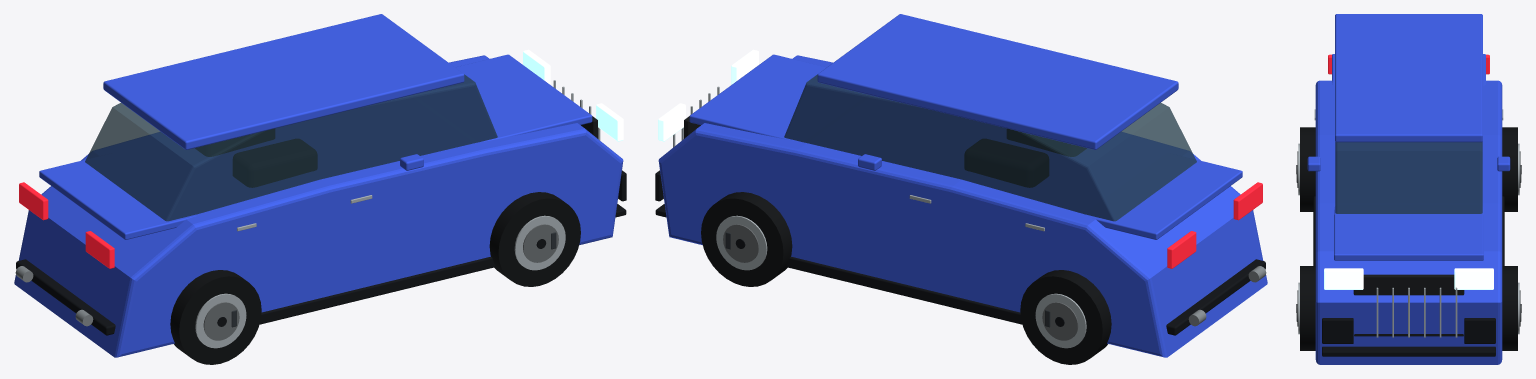
File: chevy_express_cutaway.glb
3 views of the same model, side by side, from view 1: azimuth 30°, elevation 25°; view 2: azimuth 150°, elevation 25°; view 3: azimuth 270°, elevation 25° (orthographic). The views are drawn at different scales.
Visible parts, largest first — view 1: sculpted_body, glasshouse, roof, hood_center, rear_deck, rear_right_wheel_tire, front_right_wheel_tire, side_skirt_1, seat_1, rear_diffuser, rear_right_wheel_rim, front_right_wheel_rim (+7 smaller); view 2: sculpted_body, glasshouse, roof, hood_center, rear_deck, rear_left_wheel_tire, front_left_wheel_tire, side_skirt_-1, seat_-1, rear_diffuser, rear_left_wheel_rim, front_left_wheel_rim (+7 smaller); view 3: sculpted_body, roof, glasshouse, hood_center, front_grille, front_splitter, front_left_wheel_tire, front_right_wheel_tire, rear_left_wheel_tire, rear_right_wheel_tire, headlight_right, headlight_left (+7 smaller).
Part boxes in pixels (box(x1,y1,x2,y2)): sculpted_body: box(14, 55, 623, 357); glasshouse: box(85, 74, 497, 221); roof: box(103, 14, 464, 149); hood_center: box(415, 54, 592, 142); rear_deck: box(39, 153, 198, 239); rear_right_wheel_tire: box(170, 270, 261, 364); front_right_wheel_tire: box(489, 192, 580, 286); side_skirt_1: box(259, 256, 495, 324); seat_1: box(233, 139, 316, 187); rear_diffuser: box(16, 259, 115, 335); rear_right_wheel_rim: box(195, 293, 246, 348); front_right_wheel_rim: box(514, 215, 565, 270); sculpted_body: box(658, 55, 1267, 357); glasshouse: box(784, 74, 1196, 221); roof: box(817, 14, 1178, 149); hood_center: box(689, 54, 866, 142); rear_deck: box(1083, 153, 1242, 239); rear_left_wheel_tire: box(1020, 270, 1111, 364); front_left_wheel_tire: box(701, 192, 792, 286); side_skirt_-1: box(786, 256, 1022, 324); seat_-1: box(965, 139, 1048, 187); rear_diffuser: box(1166, 259, 1265, 335); rear_left_wheel_rim: box(1035, 293, 1086, 348); front_left_wheel_rim: box(716, 215, 767, 270); sculpted_body: box(1315, 80, 1502, 364); roof: box(1335, 14, 1482, 142); glasshouse: box(1335, 142, 1482, 213); hood_center: box(1334, 206, 1483, 260); front_grille: box(1353, 274, 1464, 336); front_splitter: box(1322, 346, 1495, 356); front_left_wheel_tire: box(1502, 266, 1517, 350); front_right_wheel_tire: box(1300, 266, 1315, 350); rear_left_wheel_tire: box(1502, 127, 1517, 211); rear_right_wheel_tire: box(1300, 127, 1315, 211); headlight_right: box(1324, 268, 1363, 289); headlight_left: box(1454, 268, 1493, 289).
Size of the model in its own units: 5.56 by 2.1 by 2.28.
